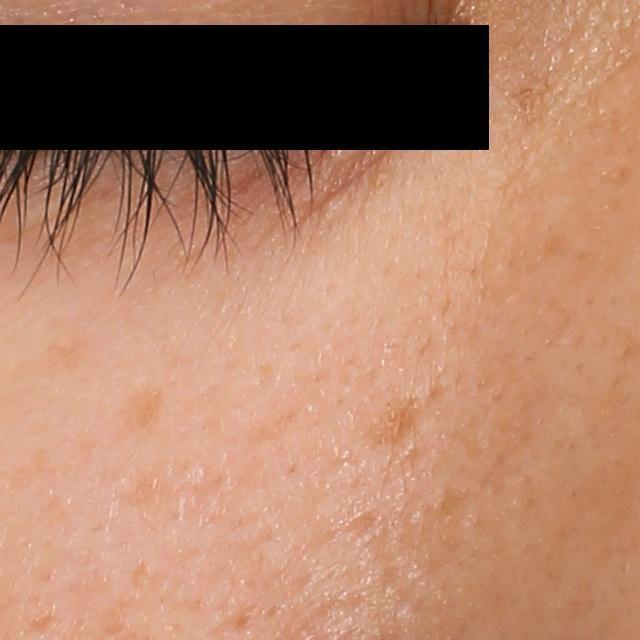atrophic_scar: (340, 509, 386, 538)
melasma: (372, 397, 423, 449), (502, 78, 556, 125), (117, 391, 161, 432)
